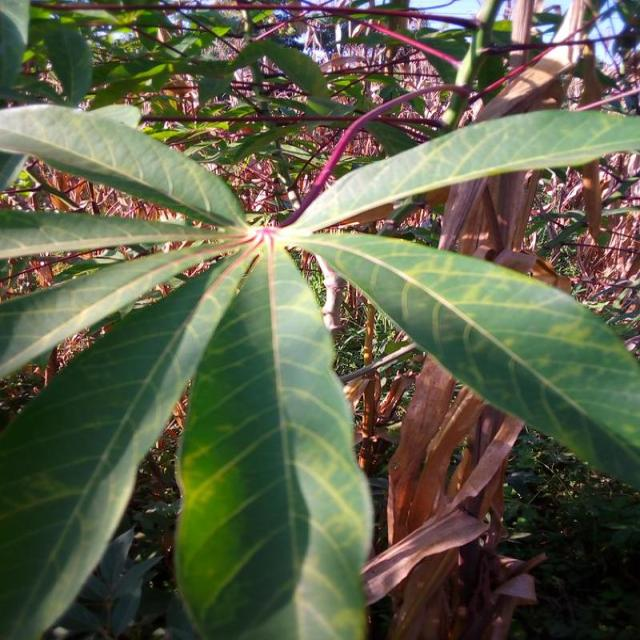cassava leaf: (0, 89, 638, 637), (0, 236, 258, 638), (294, 227, 639, 491), (173, 233, 374, 638), (278, 106, 638, 235), (0, 100, 248, 230)
